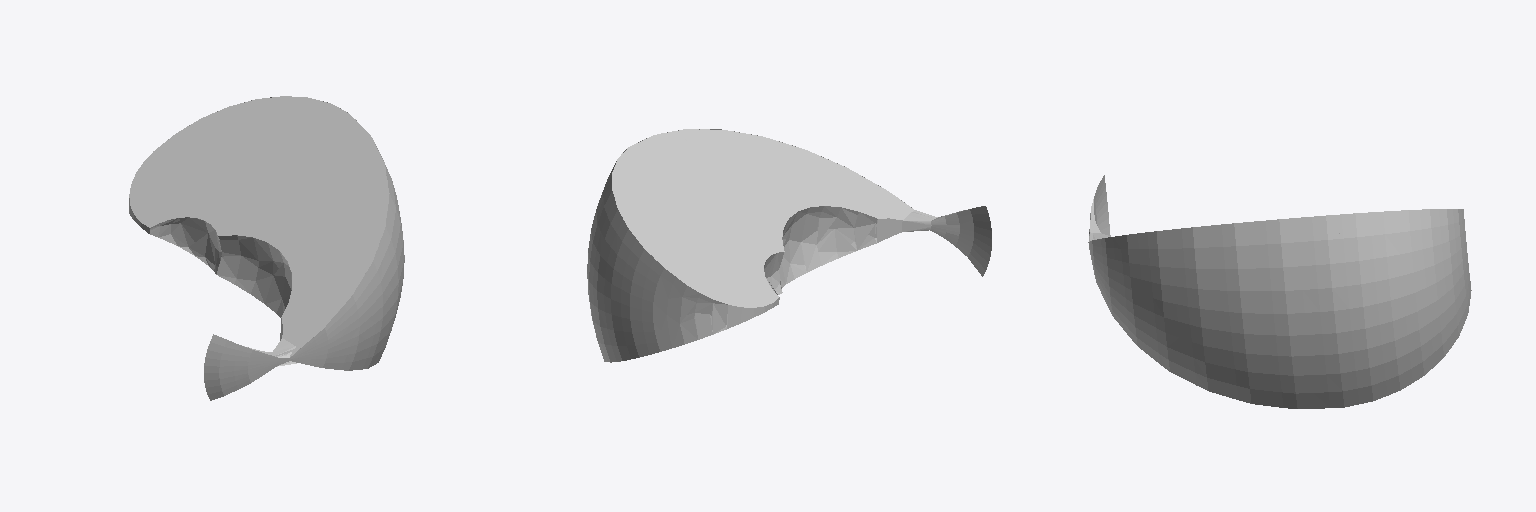
The model's file is pinky_workspace_concave_hull.obj.
The picture shows the model from 3 angles: view 1: azimuth 30°, elevation 25°; view 2: azimuth 150°, elevation 25°; view 3: azimuth 270°, elevation 25°; orthographic projection.
Size of the model in its own units: 0.1846 by 0.1246 by 0.2217.